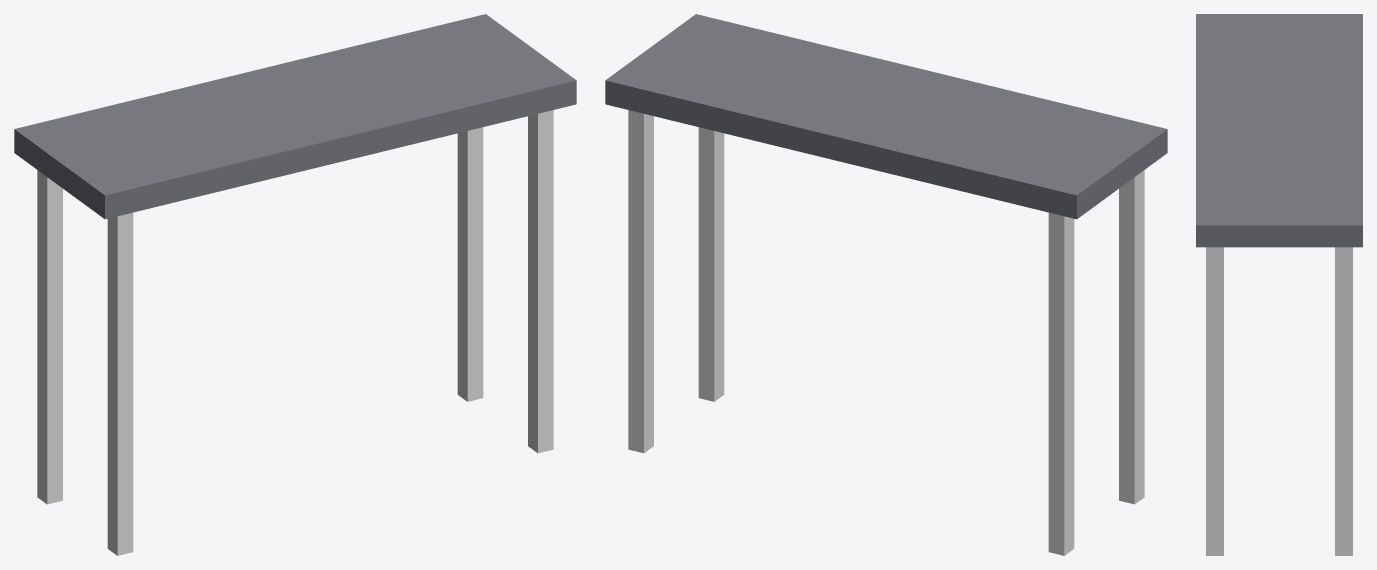
Rendered from Table2V1.gltf.
3 renders of one model, left to right at view 1: azimuth 30°, elevation 25°; view 2: azimuth 150°, elevation 25°; view 3: azimuth 270°, elevation 25°, orthographic. The views are drawn at different scales.
Parts seen in each view (by area): view 1: Table2V1; view 2: Table2V1; view 3: Table2V1.
Part boxes in pixels (x1,y1,x2,y2): Table2V1: [14, 14, 576, 555]; Table2V1: [605, 14, 1167, 555]; Table2V1: [1196, 14, 1362, 555].
Bounding box in the file's own units: 1.5 × 1.12 × 0.5.
Materials: 1 (1 with a texture image).
